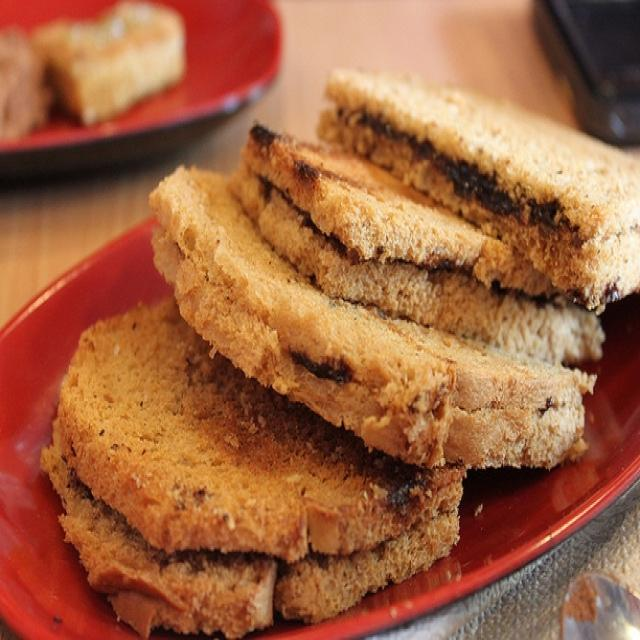面包点心: (40, 54, 621, 610)
